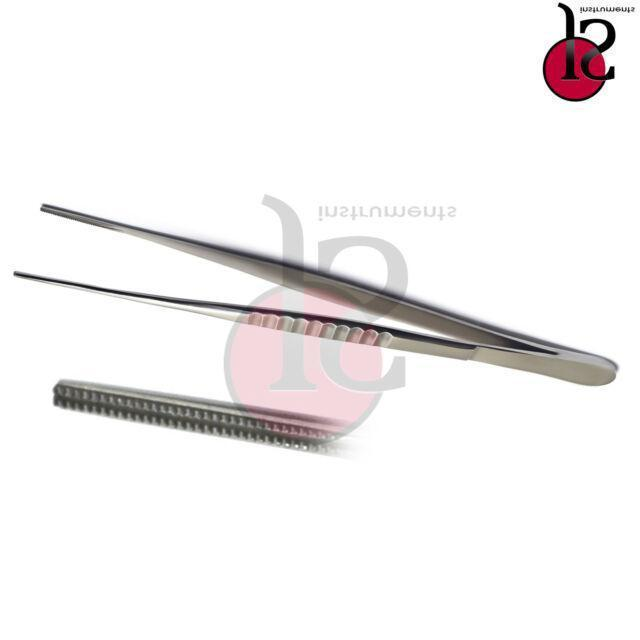Forceps: (10, 201, 622, 391), (49, 378, 338, 460)
